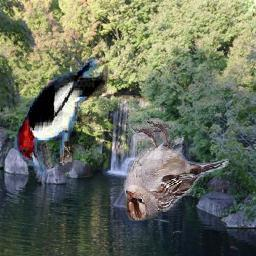Sparrow: (121, 119, 230, 222)
Woodpecker: (5, 53, 109, 179)
